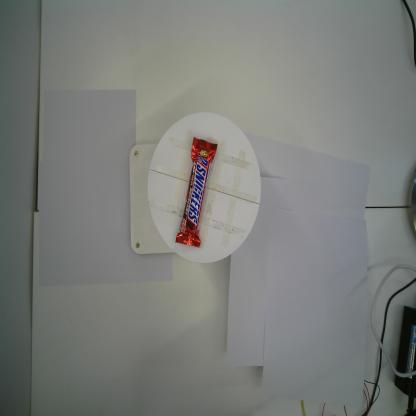Chocolate: (175, 134, 218, 250)
